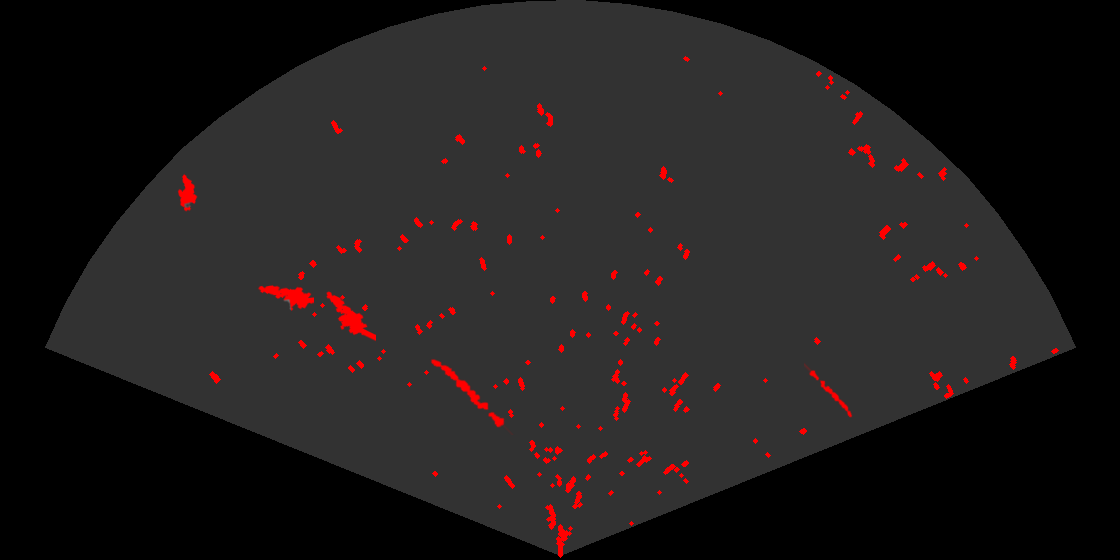AUV: (176, 172, 199, 213)
chain: (429, 357, 515, 435), (804, 361, 854, 419)
frogman: (325, 290, 376, 343), (256, 284, 314, 312)
